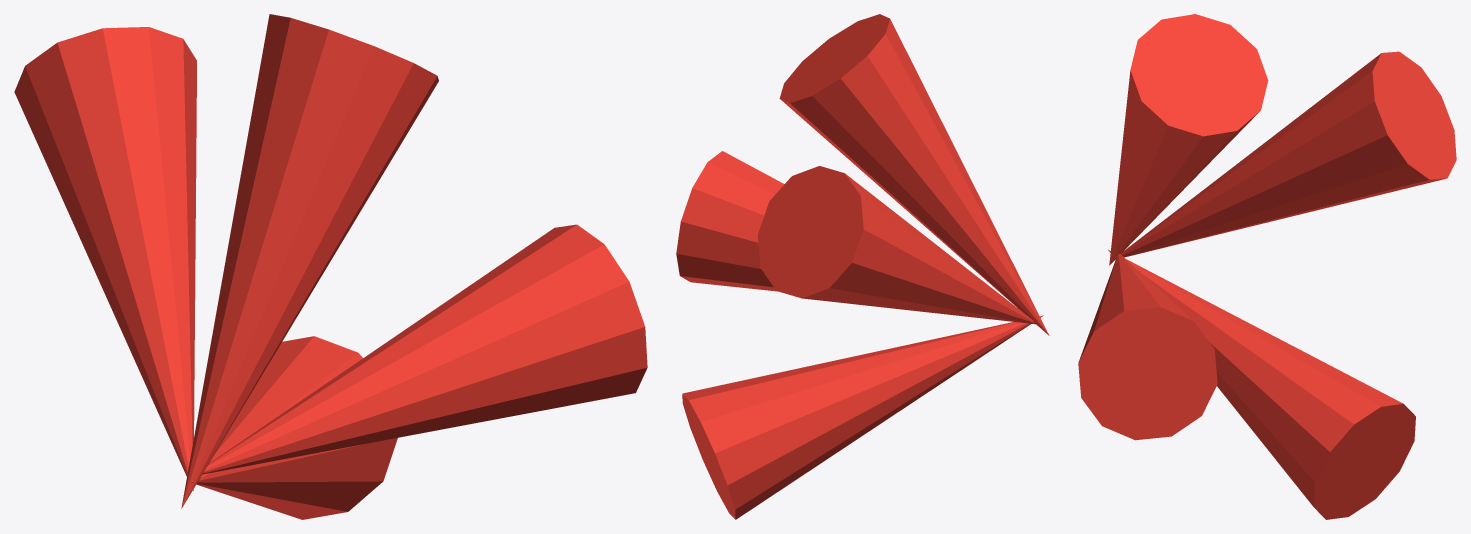
File: Blood.obj
The picture shows the model from 3 angles, left to right: view 1: azimuth 30°, elevation 25°; view 2: azimuth 150°, elevation 25°; view 3: azimuth 270°, elevation 25°; orthographic projection. The views are drawn at different scales.
Parts seen in each view (by area): view 1: group502527523, group1742494594, group275140169, group2140846923; view 2: group1742494594, group2140846923, group275140169, group502527523; view 3: group275140169, group2140846923, group1742494594, group502527523.
Part boxes in pixels (<box>): group502527523: <box>202,224,647,474</box>; group1742494594: <box>181,14,438,508</box>; group275140169: <box>14,27,196,491</box>; group2140846923: <box>190,336,397,519</box>; group1742494594: <box>779,14,1049,335</box>; group2140846923: <box>682,315,1043,519</box>; group275140169: <box>757,166,1035,324</box>; group502527523: <box>676,151,784,291</box>; group275140169: <box>1112,51,1456,260</box>; group2140846923: <box>1108,249,1415,519</box>; group1742494594: <box>1109,14,1268,265</box>; group502527523: <box>1078,254,1217,440</box>.
Bounding box in the file's own units: 0.1678 × 0.215 × 0.1597.
